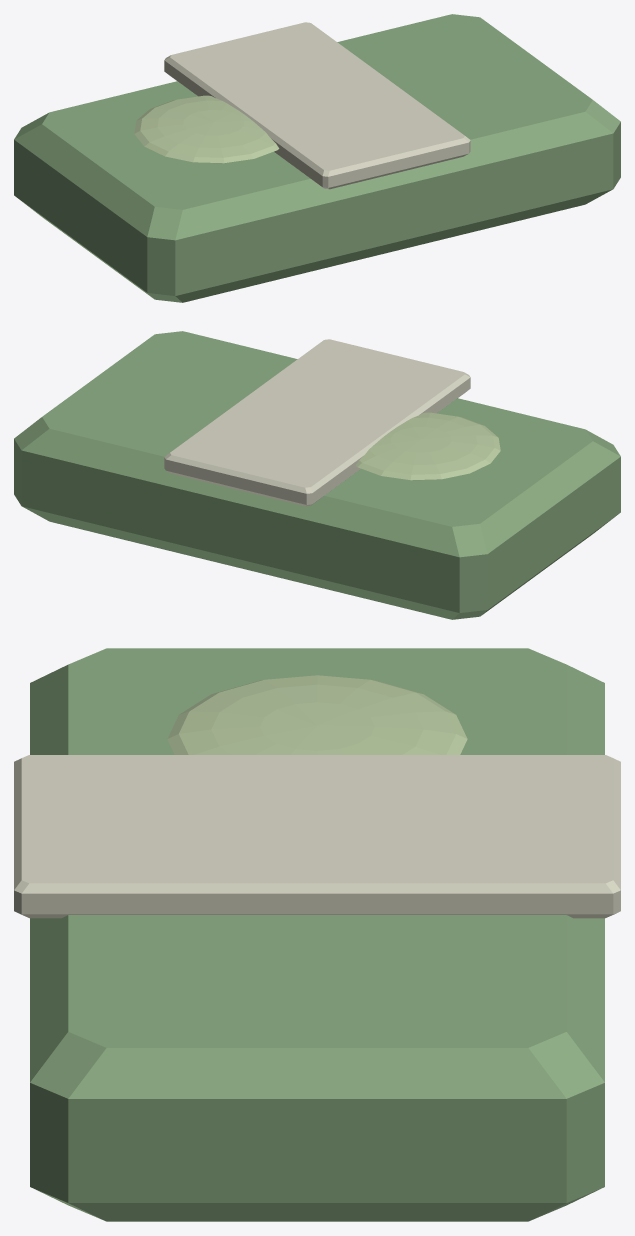
Rendered from cash_bundle.glb.
The picture shows the model from 3 angles, top to bottom: view 1: azimuth 30°, elevation 25°; view 2: azimuth 150°, elevation 25°; view 3: azimuth 270°, elevation 25°; orthographic projection. The views are drawn at different scales.
Visible parts, largest first — view 1: cash_bundle; view 2: cash_bundle; view 3: cash_bundle.
Boxes of the visible parts, box(x1,y1,x2,y2) form: cash_bundle: box(14, 14, 620, 302); cash_bundle: box(14, 331, 620, 619); cash_bundle: box(14, 648, 620, 1221).
Bounding box in the file's own units: 0.32 × 0.07 × 0.19.
